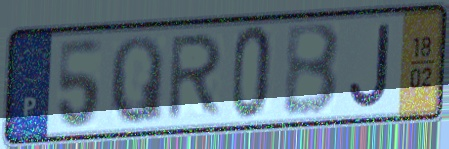0: (231, 23, 279, 123)
5: (55, 34, 102, 131)
B: (282, 20, 343, 119)
J: (347, 20, 393, 111)
Q: (108, 33, 166, 127)
R: (163, 30, 227, 124)
